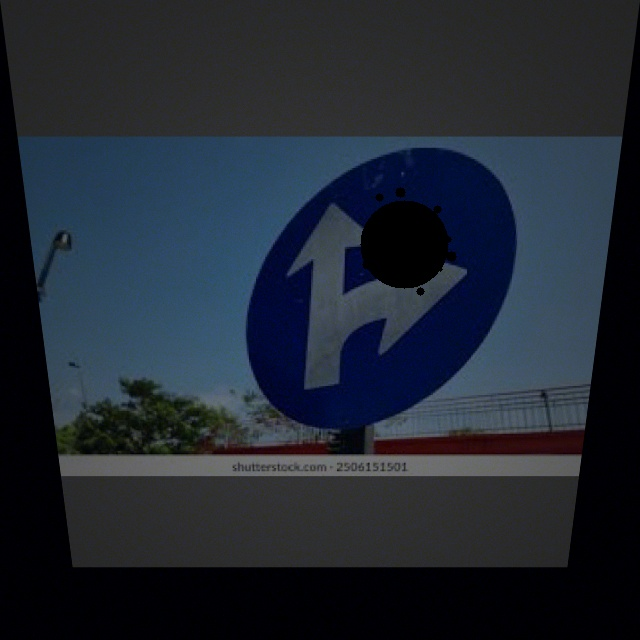Compulsory_Ahead_or_Turn_Right: (246, 159, 514, 433)
